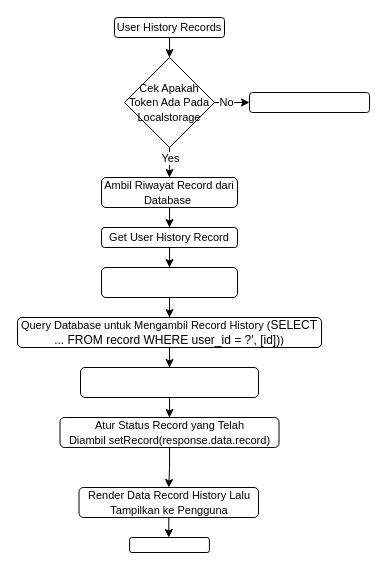
The diagram is 387 pixels wide and 570 high, and some of its shapes have lost their labels. The box of each missing label's shape, as (x1, y1, x2, y2) in pixels:
Arahkan ke Login Page: (248, 92, 370, 112)
Ekstrak User.id Berdasarkan Request.user: (100, 266, 238, 298)
End: (129, 536, 209, 552)
Return Record History dengan format JSON res.json({ sessions }): (80, 366, 258, 398)
